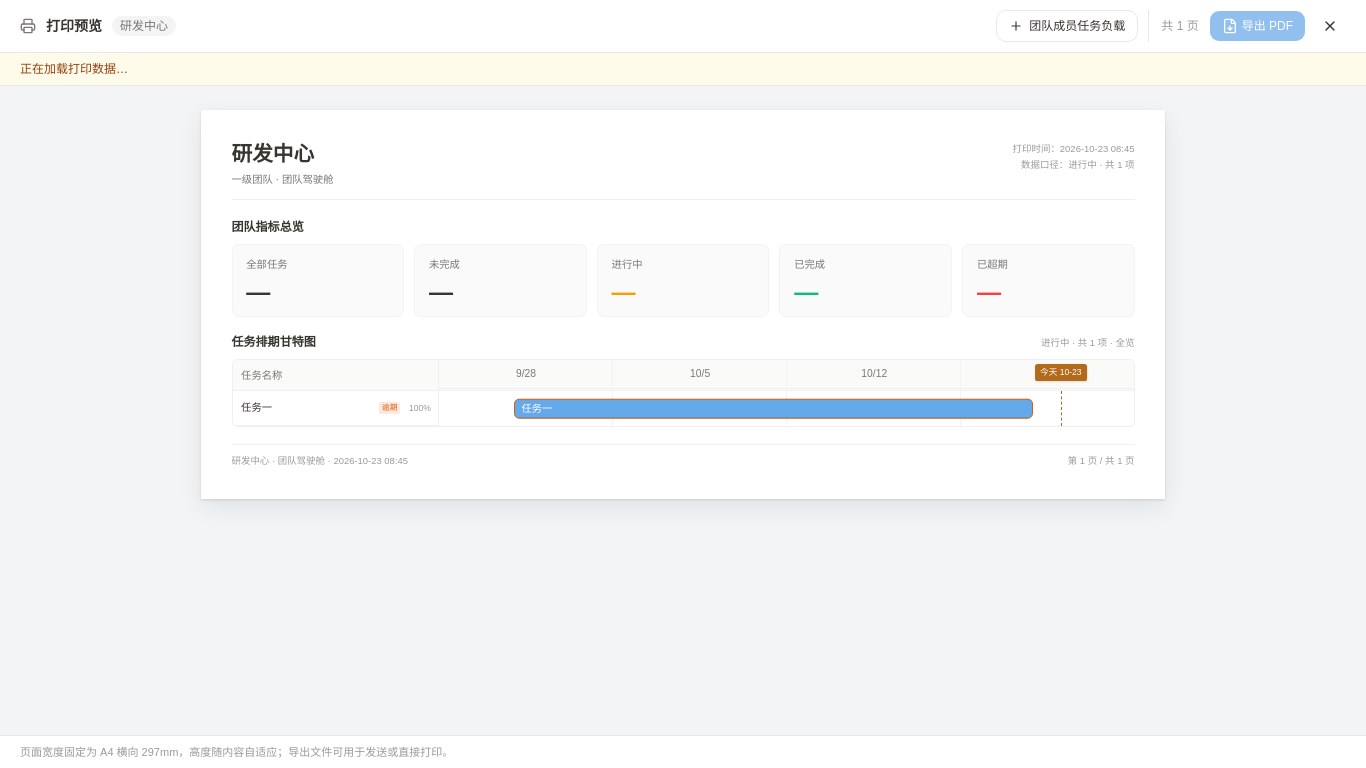
Scenario: 团队驾驶舱打印预览 › 成员数据加载失败时禁用导出并给出提示
Step 1. Click the button with aria-label "包含团队成员任务负载" → (1067, 26), box [996,10,1138,42]
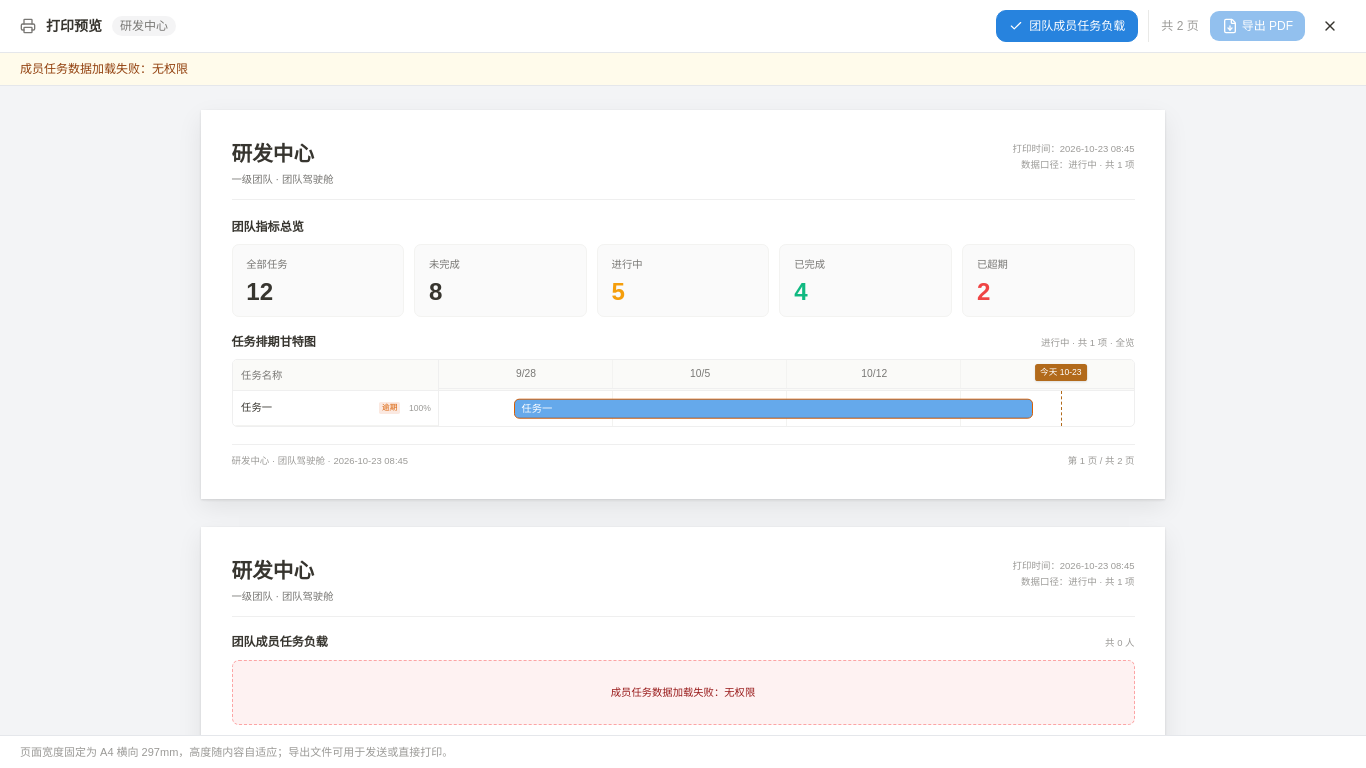
Expected: the button "导出 PDF" is disabled, [1209,10,1306,42]
Expected: the 1st text "成员任务数据加载失败：无权限" is shown, [0,53,1365,86]
